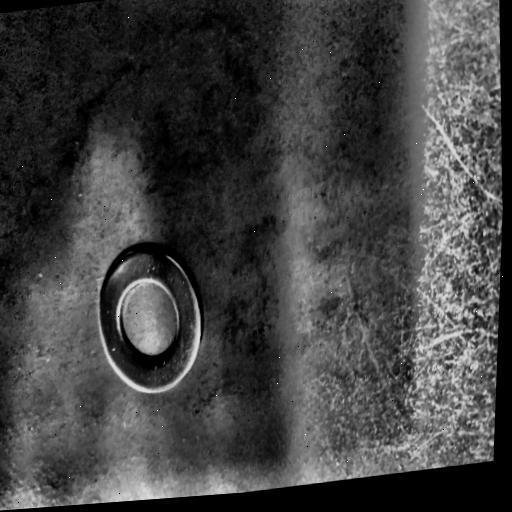Washer: (97, 242, 203, 395)
